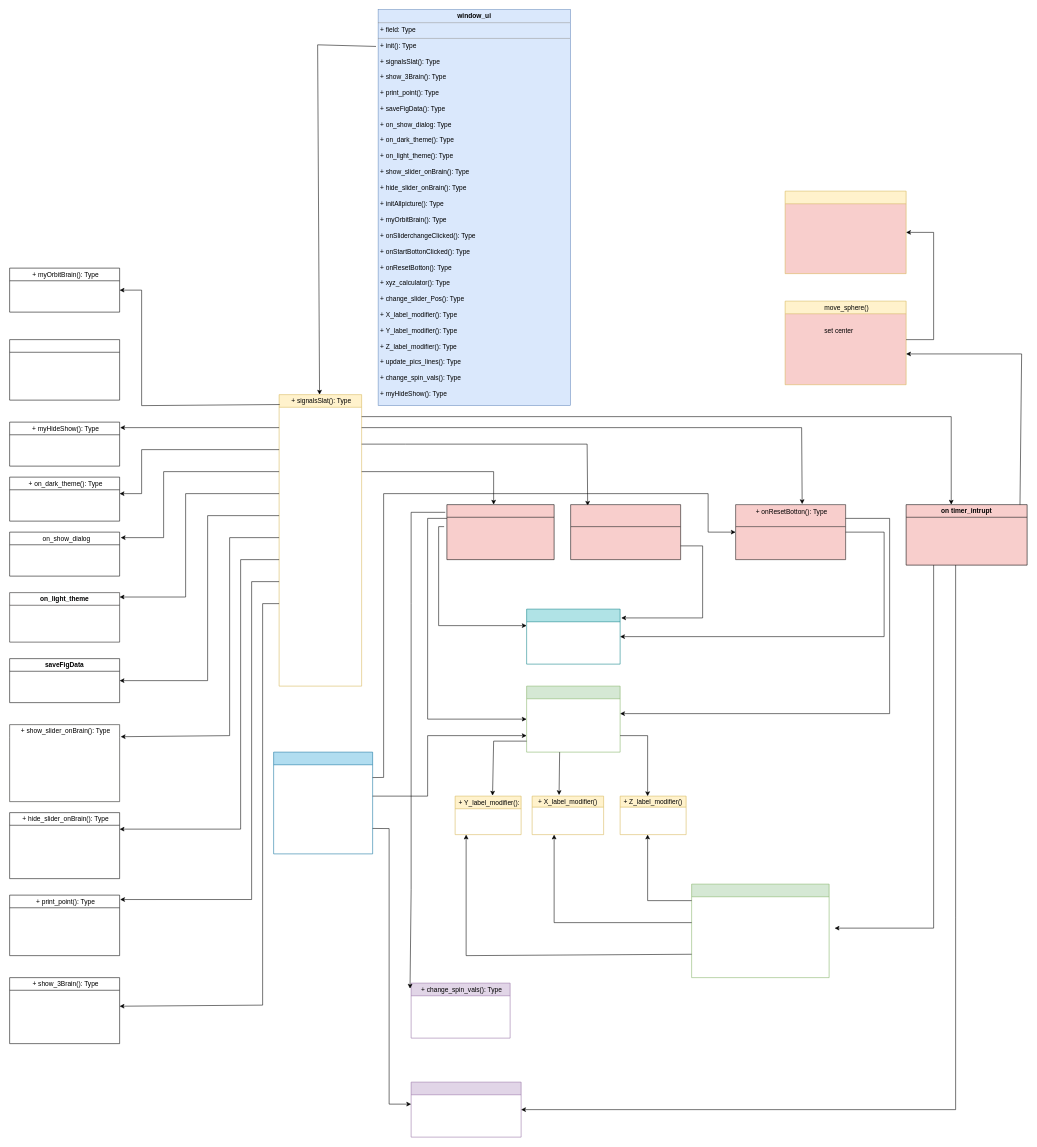
This 1037x1147 diagram has some shape labels left out. Here are the shapes that lost their labels. From the top down, the centre of each, then its label:
point (845, 232): change_coordinate
point (64, 369): + initAllpicture(): Type
point (500, 532): + onSliderchangeClicked(): Type
point (625, 532): + onStartBottonClicked(): Type
point (573, 636): + xyz_calculator(): Type
point (573, 719): + update_pics_lines(): Type
point (323, 803): init
point (760, 931): update_pics_lines_and_now_position
point (466, 1109): + change_slider_Pos(): Type
